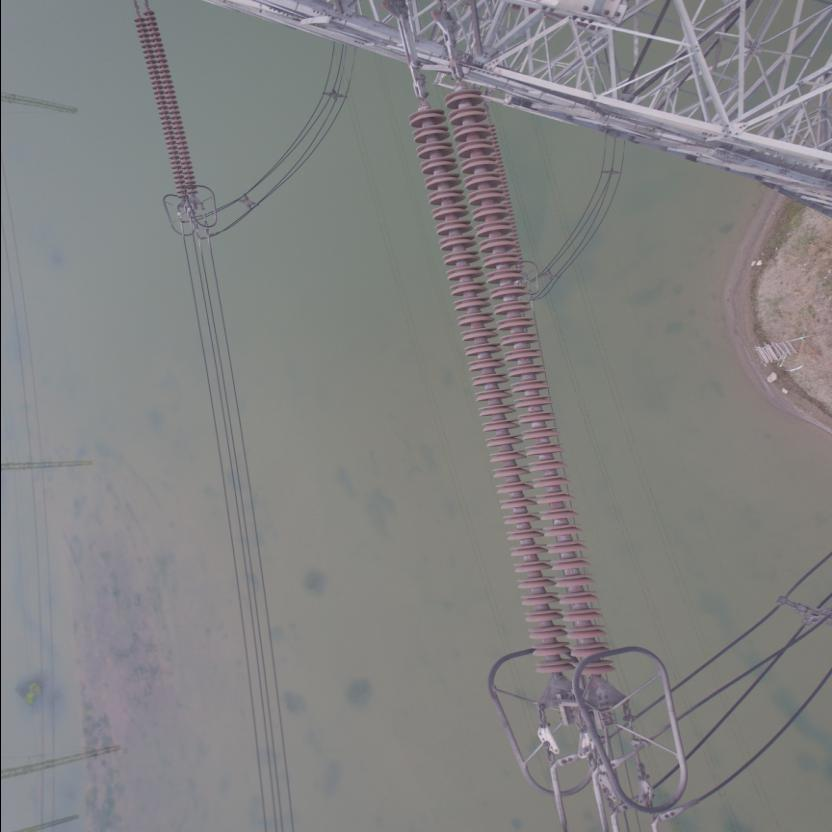insulator: (399, 47, 618, 689), (127, 1, 200, 203)
